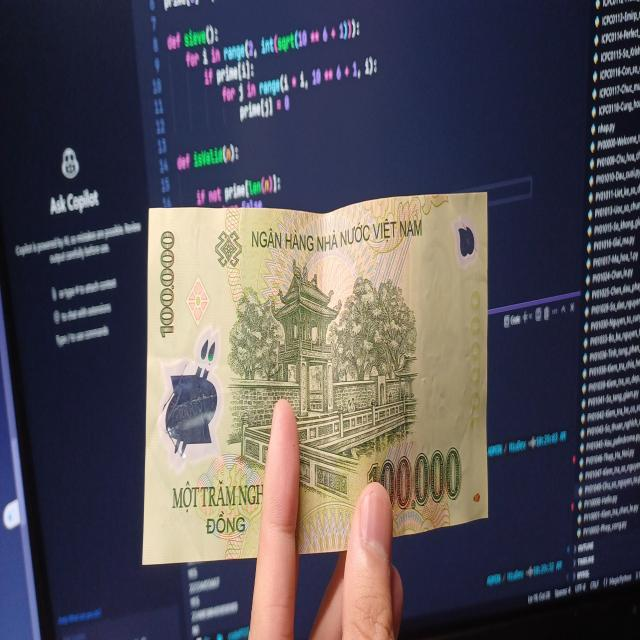100 000 VND: (141, 189, 493, 567)
